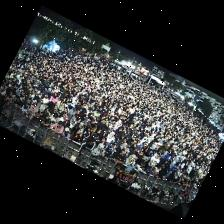person: (76, 139, 96, 158), (145, 153, 159, 172), (165, 162, 180, 178), (143, 145, 156, 162), (111, 150, 125, 163), (70, 129, 82, 143), (105, 132, 115, 148), (161, 150, 173, 163), (50, 122, 63, 134), (150, 164, 162, 177), (126, 146, 138, 159), (92, 144, 104, 157), (39, 113, 50, 127), (134, 158, 145, 172), (82, 126, 91, 140), (96, 137, 106, 149), (125, 155, 135, 167), (91, 129, 101, 141), (120, 129, 130, 140), (50, 113, 59, 125), (50, 106, 60, 116), (116, 138, 127, 147), (138, 142, 147, 153), (13, 97, 22, 108), (116, 143, 127, 152), (25, 109, 34, 120), (22, 101, 29, 115), (30, 101, 38, 113), (170, 158, 178, 170), (105, 146, 111, 160), (180, 177, 189, 186), (62, 128, 70, 138), (69, 117, 76, 128), (40, 101, 47, 112), (111, 141, 116, 156), (8, 96, 16, 105), (62, 118, 69, 128), (50, 93, 57, 103), (58, 101, 64, 112), (110, 177, 119, 184), (59, 114, 67, 121), (79, 123, 85, 131), (188, 182, 196, 188)
